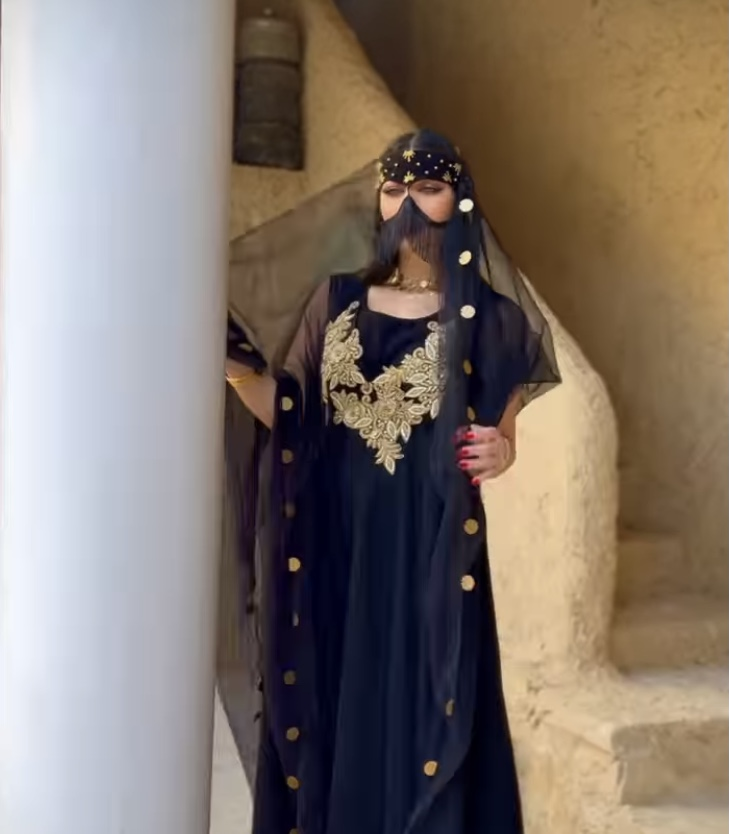Saudi_Founding_Day: (228, 127, 565, 833)
